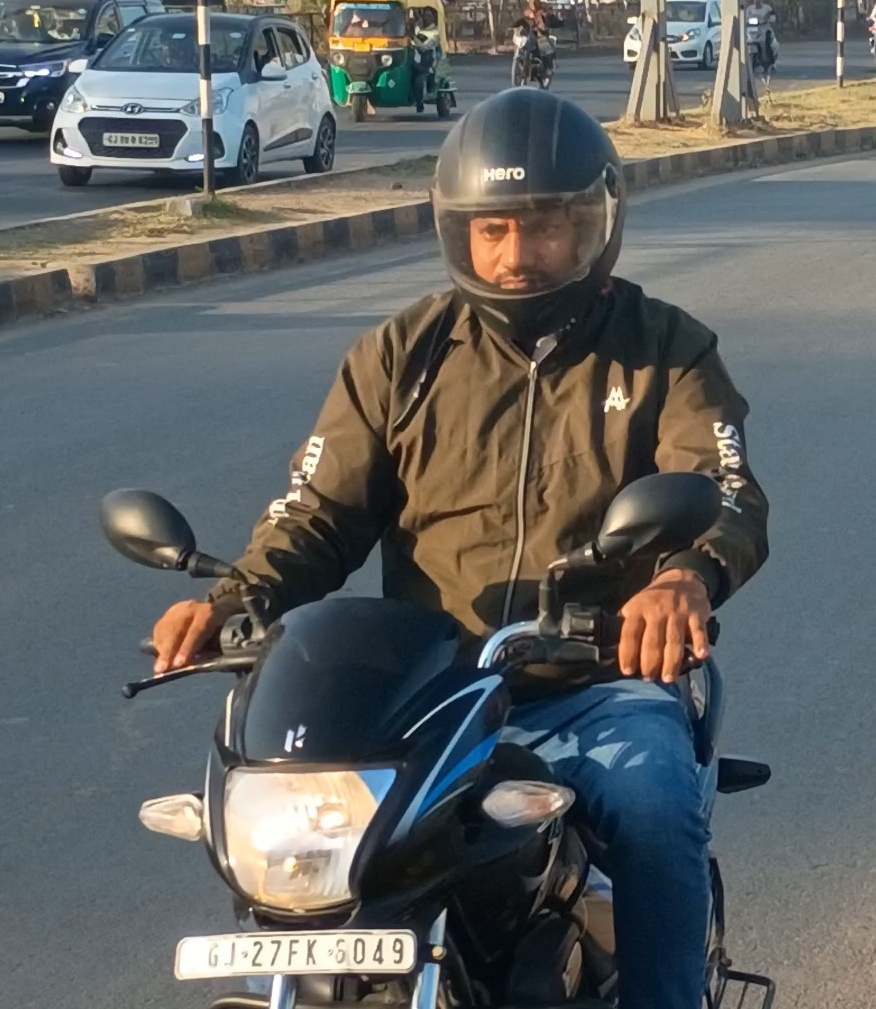BikeWithRider: (87, 76, 799, 1009), (499, 0, 568, 96), (735, 0, 788, 78)
Helmet: (416, 78, 635, 341)
